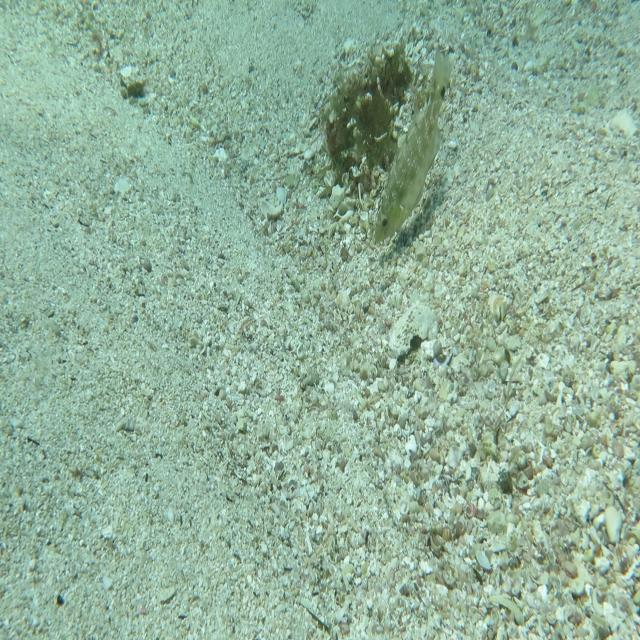NIP_OUT: (371, 45, 456, 254)
core_nest: (364, 56, 397, 95)
nest: (316, 32, 414, 200)
vegetation: (124, 75, 144, 101)
